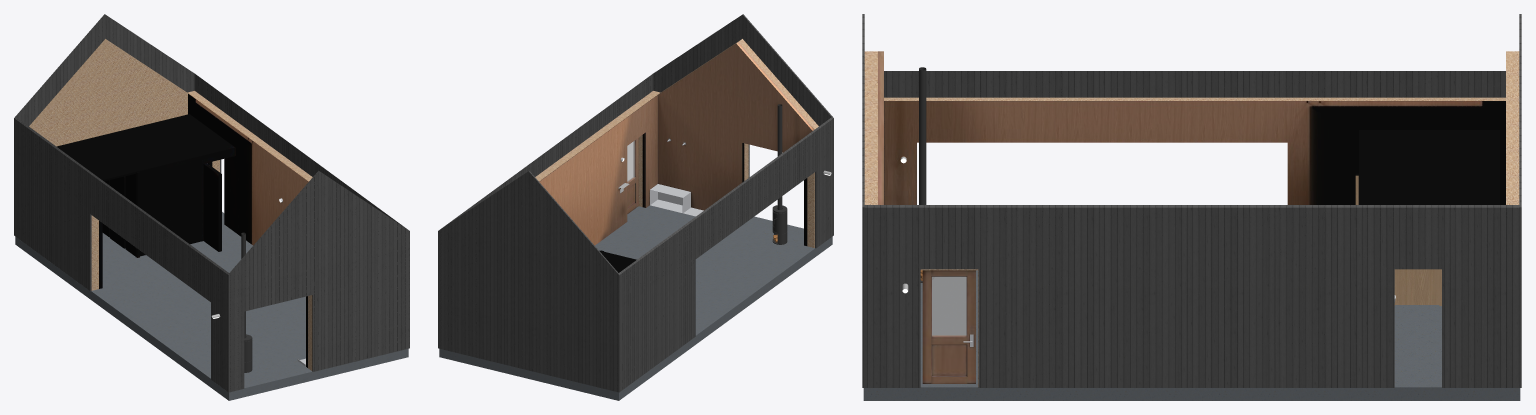
File: Black_Base.glb
The picture shows the model from 3 angles, left to right: view 1: azimuth 30°, elevation 25°; view 2: azimuth 150°, elevation 25°; view 3: azimuth 270°, elevation 25°; orthographic projection. The views are drawn at different scales.
Parts seen in each view (by area): view 1: Exterior_Wood_Black_Base.002, Interior_Wood_Black_Base_Bed2.003, Concrete_Black_Base.001, Insolation_Black_Base.001, Fire Place_Black_Base.001; view 2: Exterior_Wood_Black_Base.002, Interior_Wood_Black_Base_Bed2.003, Concrete_Black_Base.001, Insolation_Black_Base.001, Alumininum_1_Black_Base.001, Fire Place_Black_Base.001; view 3: Exterior_Wood_Black_Base.002, Interior_Wood_Black_Base_Bed2.003, Concrete_Black_Base.001, Insolation_Black_Base.001, Glass_Black_Base.001, Fire Place_Black_Base.001.
Part boxes in pixels (left/top/right/bottom): Exterior_Wood_Black_Base.002: left=14, top=14, right=409, bottom=392; Interior_Wood_Black_Base_Bed2.003: left=56, top=93, right=308, bottom=367; Concrete_Black_Base.001: left=15, top=212, right=408, bottom=400; Insolation_Black_Base.001: left=29, top=39, right=312, bottom=370; Fire Place_Black_Base.001: left=241, top=232, right=252, bottom=372; Exterior_Wood_Black_Base.002: left=438, top=14, right=833, bottom=392; Interior_Wood_Black_Base_Bed2.003: left=539, top=42, right=814, bottom=272; Concrete_Black_Base.001: left=439, top=205, right=832, bottom=400; Insolation_Black_Base.001: left=535, top=39, right=818, bottom=247; Alumininum_1_Black_Base.001: left=618, top=138, right=832, bottom=216; Fire Place_Black_Base.001: left=772, top=104, right=787, bottom=244; Exterior_Wood_Black_Base.002: left=862, top=14, right=1521, bottom=387; Interior_Wood_Black_Base_Bed2.003: left=878, top=51, right=1505, bottom=383; Concrete_Black_Base.001: left=863, top=270, right=1520, bottom=400; Insolation_Black_Base.001: left=864, top=51, right=1519, bottom=386; Glass_Black_Base.001: left=932, top=276, right=966, bottom=335; Fire Place_Black_Base.001: left=919, top=67, right=933, bottom=282.
Bounding box in the file's own units: 2.34 × 2.39 × 4.46.
15 materials, 6 textured.
